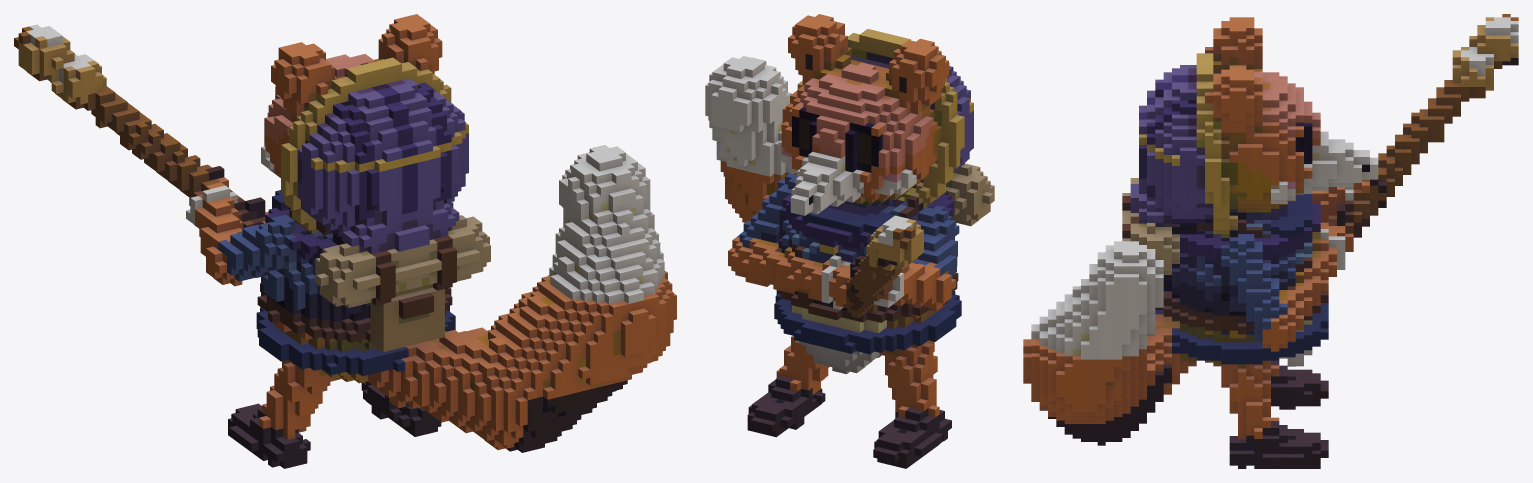
The model's file is Tock.glb.
The picture shows the model from 3 angles, left to right: view 1: azimuth 30°, elevation 25°; view 2: azimuth 150°, elevation 25°; view 3: azimuth 270°, elevation 25°; orthographic projection. The views are drawn at different scales.
Parts seen in each view (by area): view 1: Tail__Tex, Head__Tex, Body__Tex, ArmL2__Tex, LegL1__Tex, ArmL1__Tex, LegR1__Tex; view 2: Head__Tex, Body__Tex, Tail__Tex, ArmL2__Tex, LegL1__Tex, ArmR2__Tex, LegR1__Tex, ArmL1__Tex, ArmR1__Tex; view 3: Head__Tex, Tail__Tex, Body__Tex, ArmL2__Tex, LegR1__Tex, ArmR2__Tex, ArmR1__Tex, LegL1__Tex.
Part boxes in pixels (x1,y1,x2,y2): Tail__Tex: (368, 145, 676, 452); Head__Tex: (261, 14, 468, 254); Body__Tex: (256, 190, 490, 383); ArmL2__Tex: (14, 24, 265, 286); LegL1__Tex: (228, 360, 334, 468); ArmL1__Tex: (218, 214, 307, 281); LegR1__Tex: (361, 381, 441, 436); Head__Tex: (778, 14, 973, 215); Body__Tex: (774, 163, 994, 374); Tail__Tex: (705, 56, 796, 222); ArmL2__Tex: (843, 215, 955, 317); LegL1__Tex: (873, 340, 951, 468); ArmR2__Tex: (728, 237, 855, 309); LegR1__Tex: (747, 335, 829, 437); ArmL1__Tex: (911, 205, 959, 278); ArmR1__Tex: (737, 173, 796, 248); Head__Tex: (1130, 17, 1378, 237); Tail__Tex: (1023, 241, 1196, 445); Body__Tex: (1122, 178, 1328, 366); ArmL2__Tex: (1312, 14, 1518, 237); LegR1__Tex: (1213, 360, 1328, 468); ArmR2__Tex: (1262, 204, 1353, 351); ArmR1__Tex: (1221, 234, 1287, 340); LegL1__Tex: (1262, 360, 1328, 409).
Bounding box in the file's own units: 4.05 × 3.83 × 4.5.
